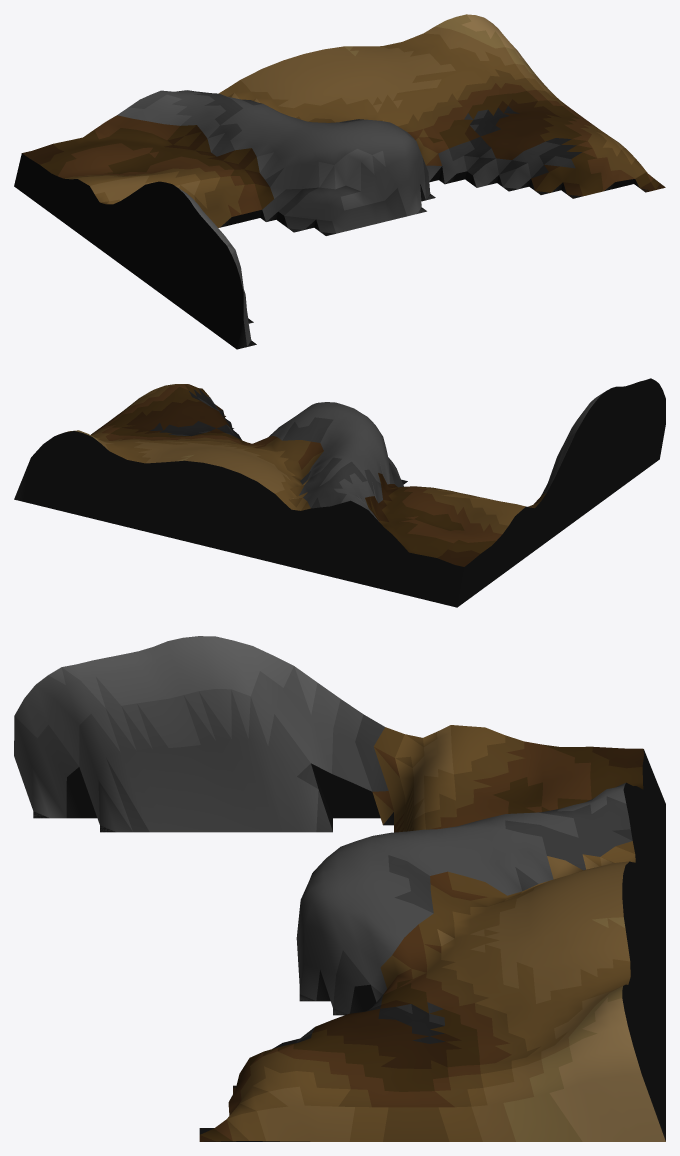
Rendered from rock_machine_br.glb.
3 renders of one model, top to bottom at view 1: azimuth 30°, elevation 25°; view 2: azimuth 150°, elevation 25°; view 3: azimuth 270°, elevation 25°, orthographic. The views are drawn at different scales.
Visible parts, largest first — view 1: rock_machine_br; view 2: rock_machine_br; view 3: rock_machine_br.
Boxes of the visible parts, box(x1,y1,x2,y2) form: rock_machine_br: box(14, 14, 665, 349); rock_machine_br: box(14, 378, 665, 607); rock_machine_br: box(14, 636, 665, 1141).
Size of the model in its own units: 24 by 5.57 by 19.58.
